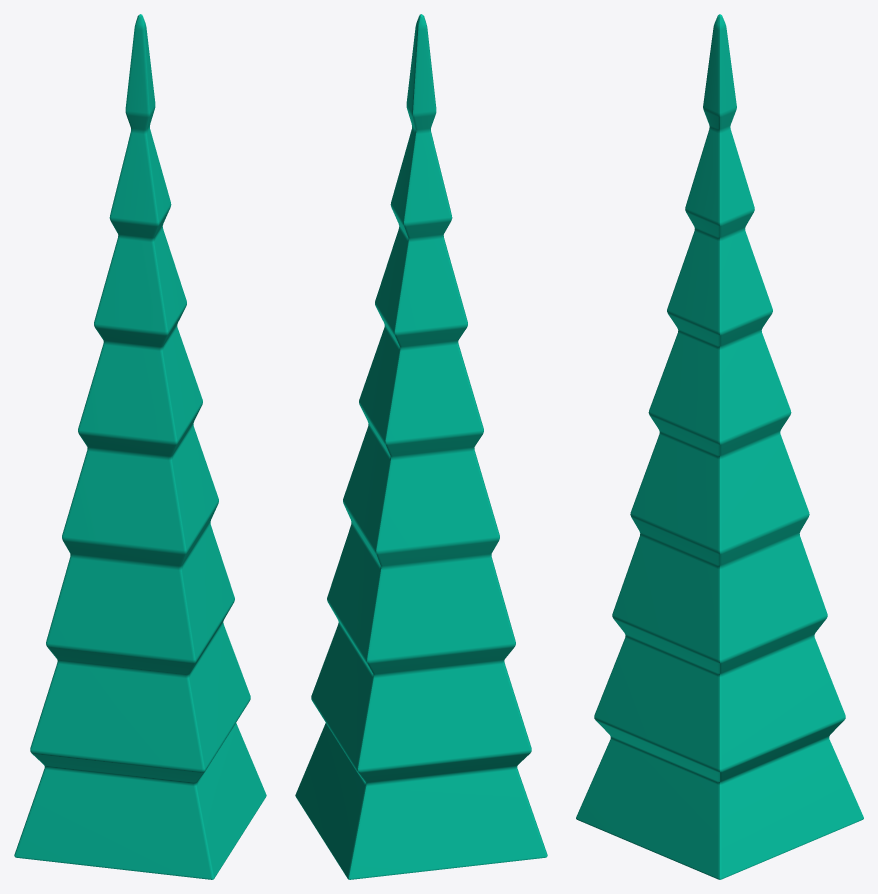
The model's file is pinetree_cute1.fbx.
The picture shows the model from 3 angles, left to right: view 1: azimuth 30°, elevation 25°; view 2: azimuth 150°, elevation 25°; view 3: azimuth 270°, elevation 25°; orthographic projection.
Parts seen in each view (by area): view 1: pinetree_cute1; view 2: pinetree_cute1; view 3: pinetree_cute1.
Boxes of the visible parts, box(x1,y1,x2,y2) form: pinetree_cute1: box(14, 14, 266, 879); pinetree_cute1: box(295, 14, 547, 879); pinetree_cute1: box(576, 14, 863, 879).
Bounding box in the file's own units: 2.32 × 7.18 × 2.32.
